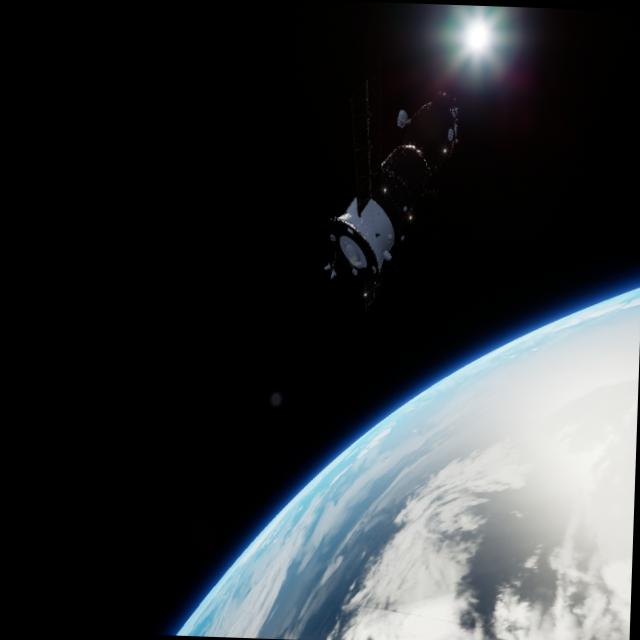Satellites revolving around earth: (173, 268, 639, 640)
